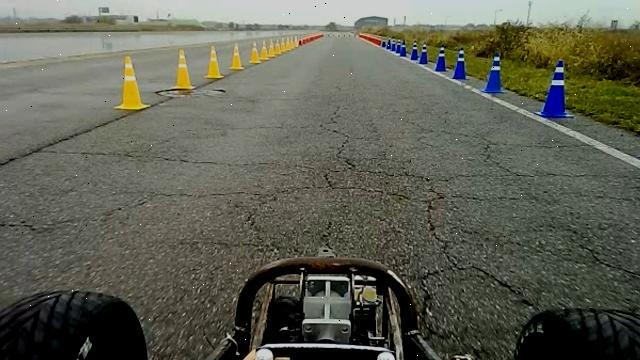blue cone: (535, 58, 575, 118), (482, 50, 508, 94), (451, 48, 468, 80), (434, 44, 448, 71), (418, 42, 429, 64), (410, 40, 419, 60)
yellow cone: (114, 54, 151, 110), (172, 48, 196, 90), (204, 44, 224, 79), (229, 42, 245, 70), (248, 41, 262, 64), (260, 40, 270, 61), (266, 38, 276, 57)
